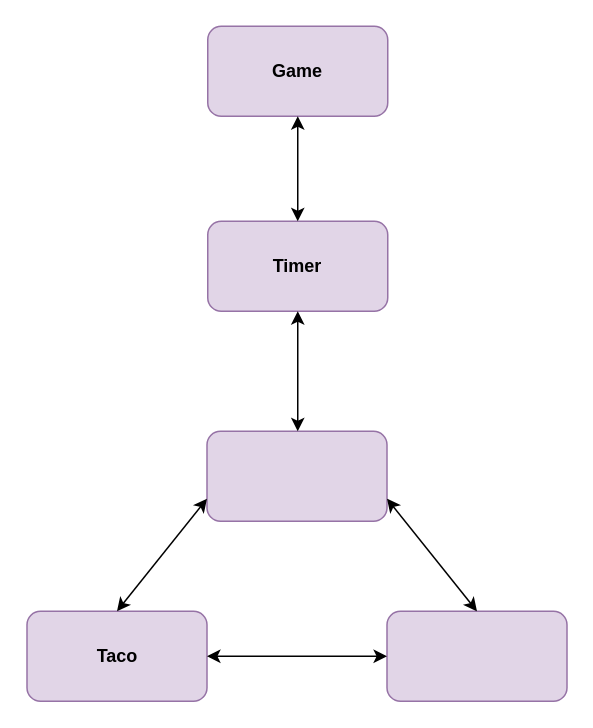
Some shapes in this 593 by 728 pixel diagram are drawn without their labels. The shapes that lost their labels are listed below. From the top down, each one's centre as x and y in pixels, then its label:
At point 296,475: "Order".
At point 476,655: "Ingredients".
